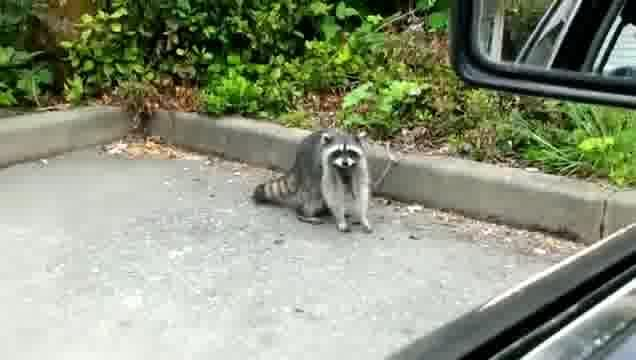raccoon: (243, 125, 377, 239)
